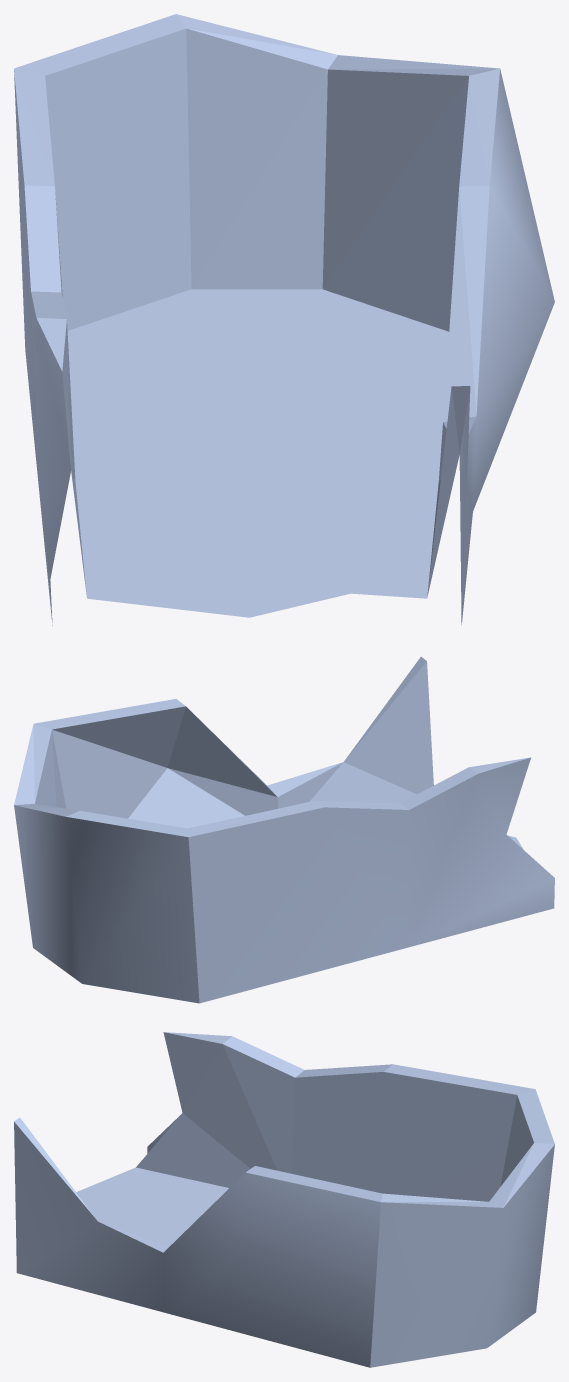
3 renders of one model, top to bottom at view 1: azimuth 30°, elevation 25°; view 2: azimuth 150°, elevation 25°; view 3: azimuth 270°, elevation 25°, orthographic. The views are drawn at different scales.
Parts seen in each view (by area): view 1: Object53; view 2: Object53; view 3: Object53.
Boxes of the visible parts, x1,y1,x2,y2 form: Object53: (14, 14, 554, 625); Object53: (14, 657, 554, 1003); Object53: (14, 1032, 554, 1367).
Size of the model in its own units: 131 by 53.2 by 152.
